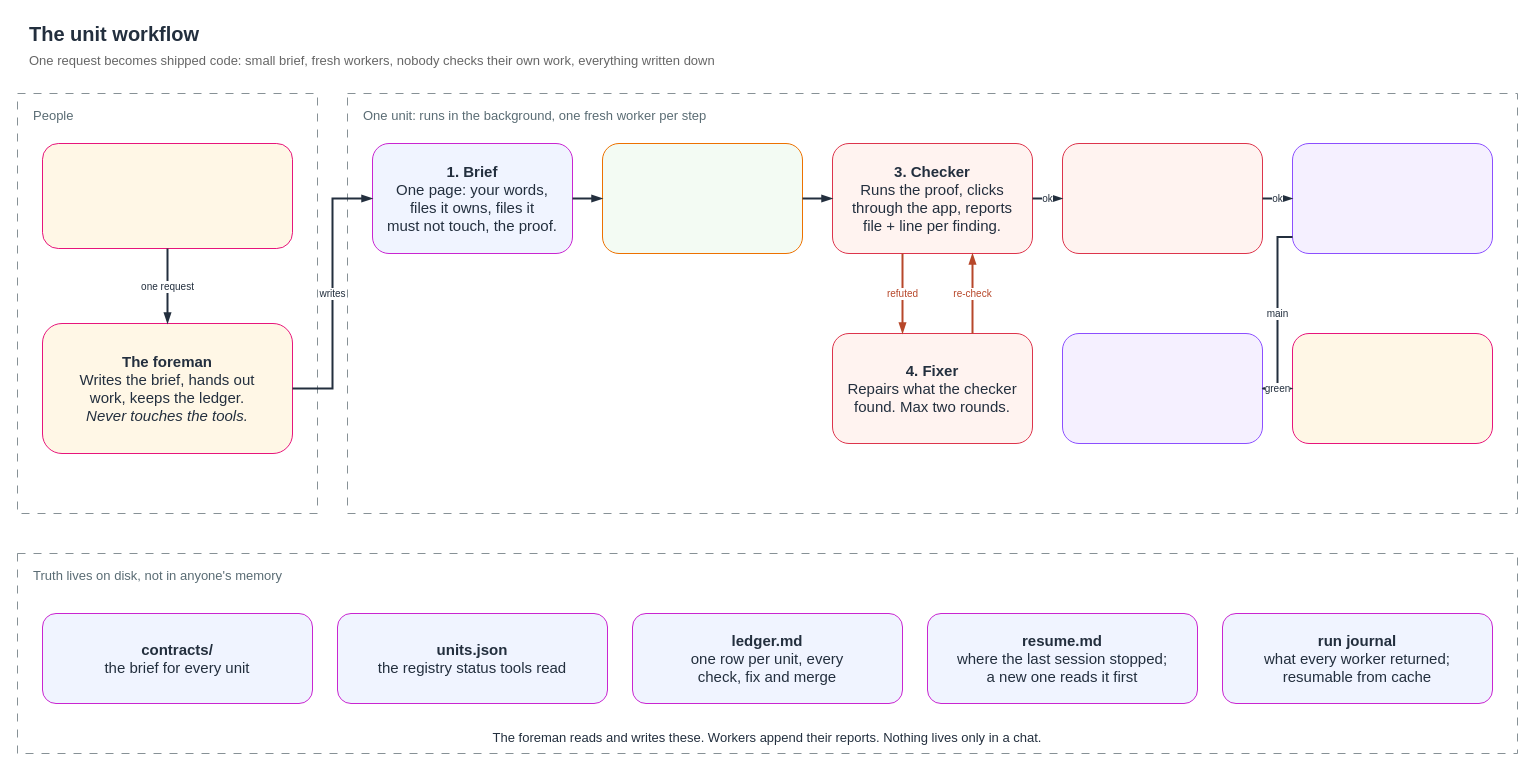
Some shapes in this 1535 by 771 pixel diagram are drawn without their labels. The centre of each missing label's shape, as x and y in pixels:
2. Builder Works in its own copy of the code. Cannot break anything live.: point (702, 198)
5. Second checker Risky units only. Its job is to refute.: point (1162, 198)
6. Merger Folds the branch into main, one unit at a time.: point (1392, 198)
7. Inspector Runs the whole test suite on main. New failure, or old noise?: point (1162, 388)
8. Ship Migrations, deploy, ledger records it.: point (1392, 388)
You Say what you want. Decide only the big things.: point (167, 195)
